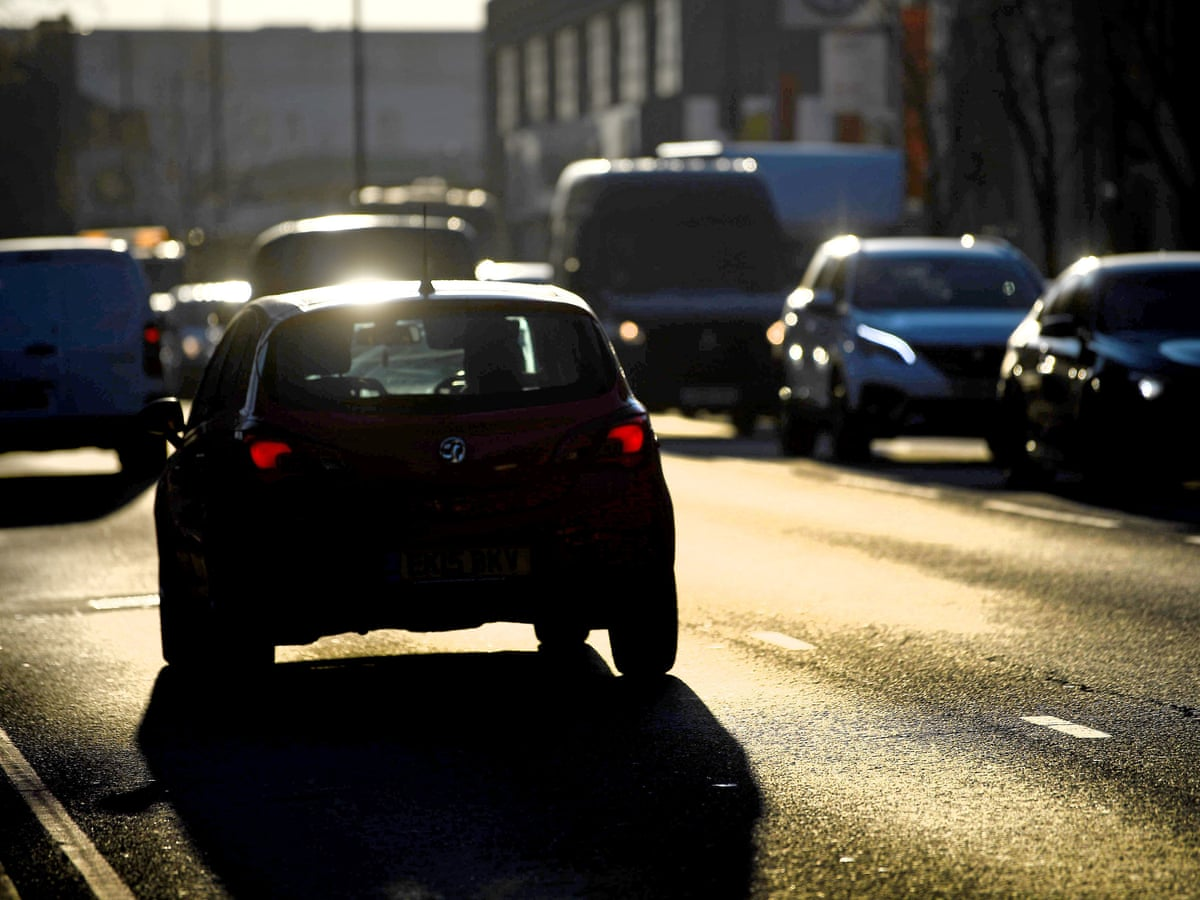car: (150, 299, 685, 687), (557, 157, 789, 416), (783, 235, 1057, 454), (1022, 255, 1200, 496), (1, 235, 154, 483)
